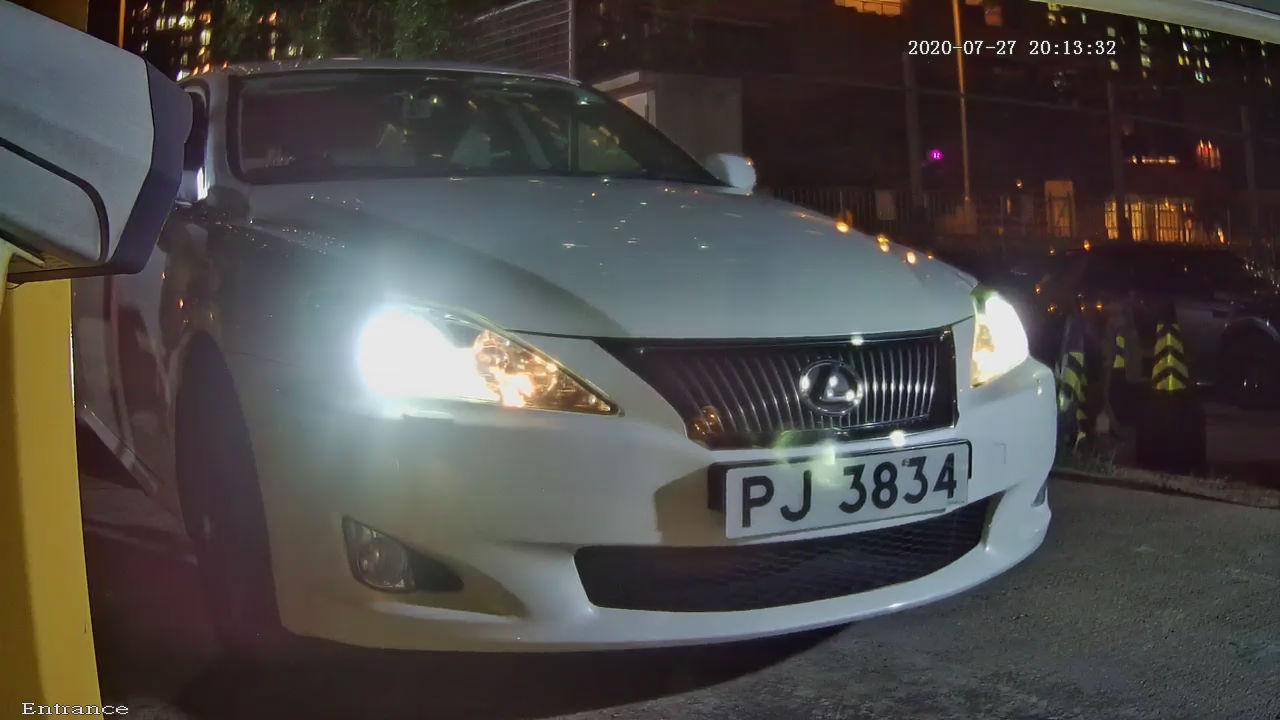privatecar: (121, 13, 1081, 682)
